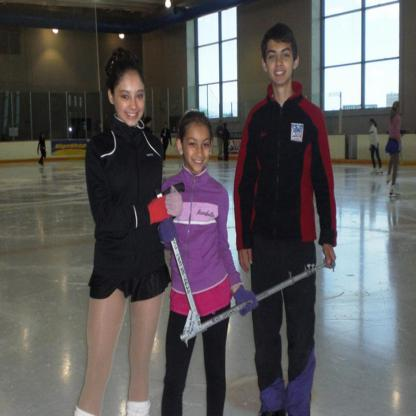face: (114, 71, 146, 128), (185, 124, 212, 174), (267, 41, 295, 83)
